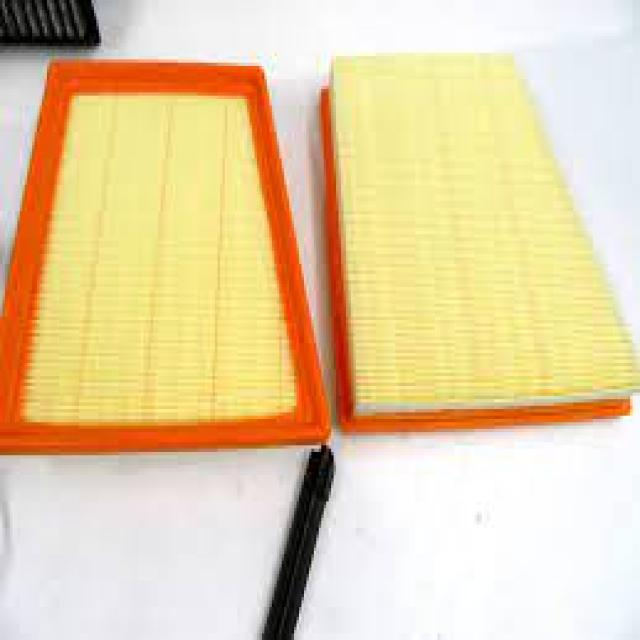air_filter: (0, 56, 317, 450), (322, 53, 640, 436)
